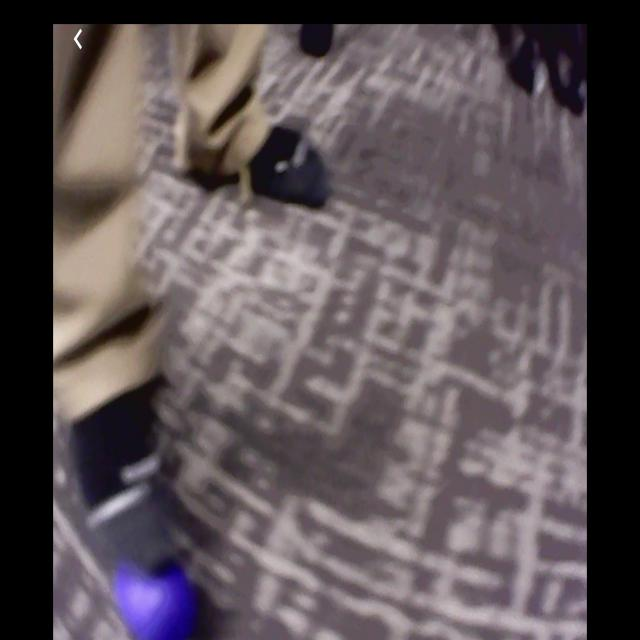ball: (114, 554, 194, 640)
